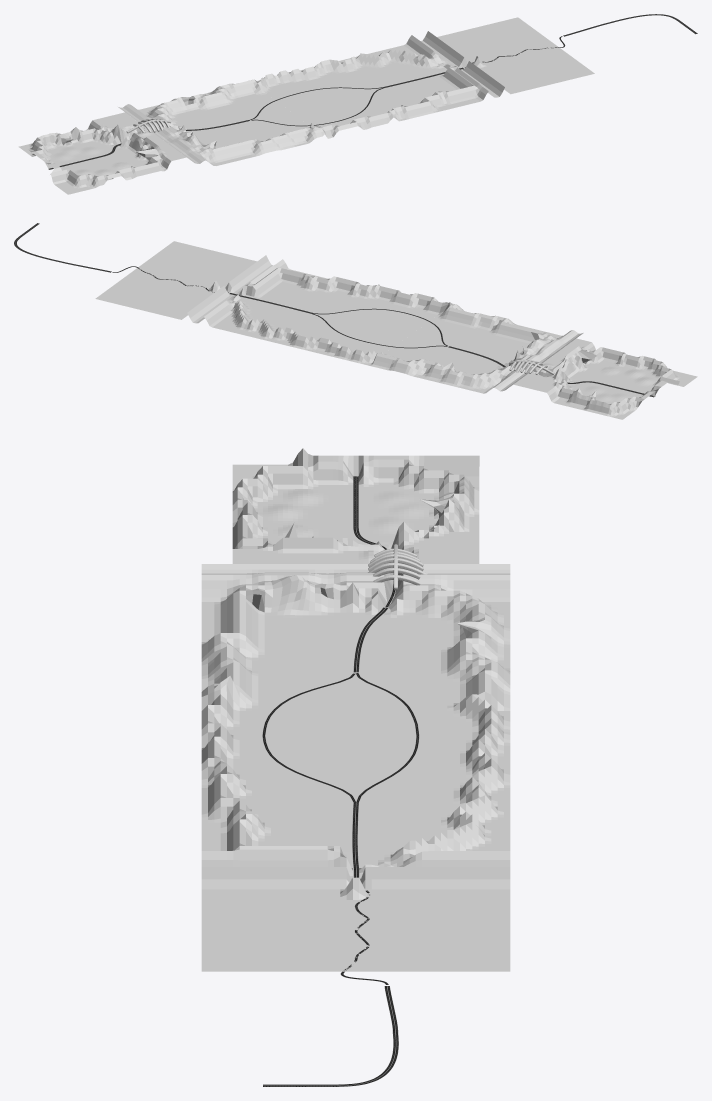
Rendered from phoenix.glb.
3 renders of one model, top to bottom at view 1: azimuth 30°, elevation 25°; view 2: azimuth 150°, elevation 25°; view 3: azimuth 270°, elevation 25°, orthographic. The views are drawn at different scales.
Parts seen in each view (by area): view 1: Grid, skeleton-mesh; view 2: Grid, skeleton-mesh; view 3: Grid, skeleton-mesh.
Boxes of the visible parts, bbox=[...] form: Grid: bbox=[18, 17, 594, 194]; skeleton-mesh: bbox=[126, 118, 171, 133]; Grid: bbox=[95, 241, 697, 419]; skeleton-mesh: bbox=[509, 359, 554, 374]; Grid: bbox=[201, 448, 510, 971]; skeleton-mesh: bbox=[367, 544, 427, 590].
Size of the model in its own units: 4774 by 123 by 1000.
2 materials, 2 textured.
